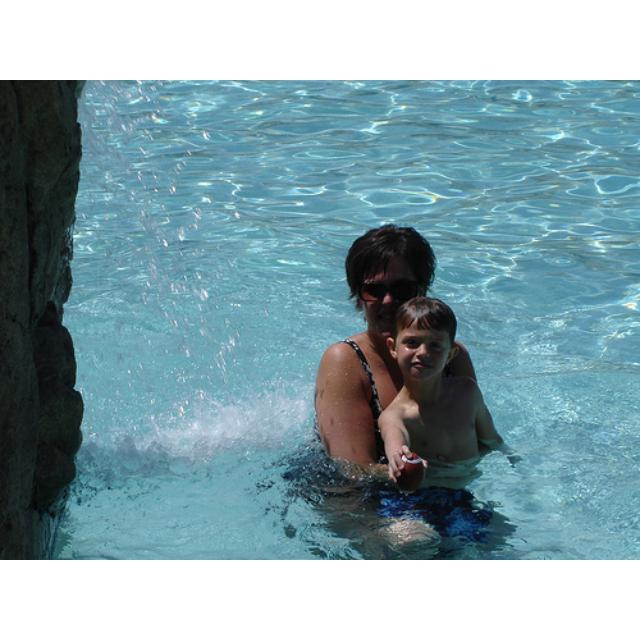human: (316, 219, 487, 487), (385, 297, 519, 494)
